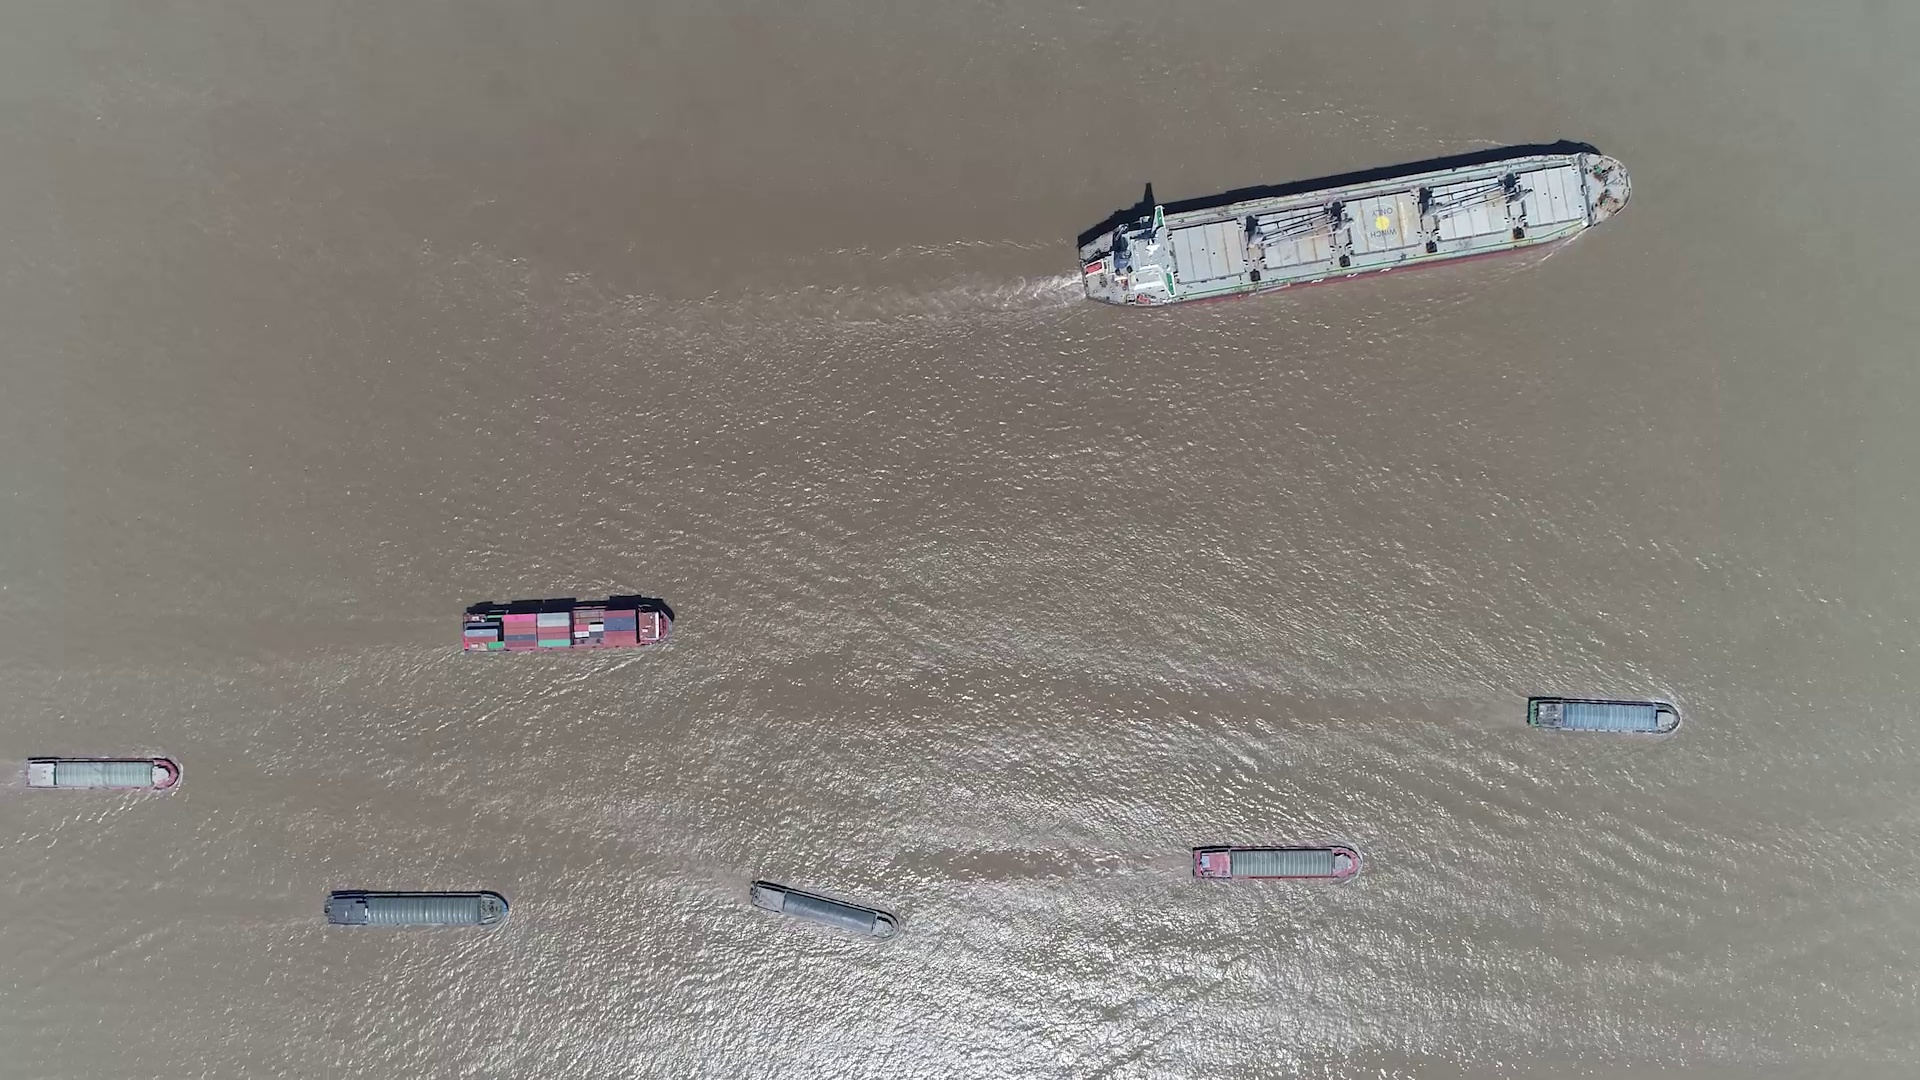ship: (1072, 153, 1633, 307), (460, 600, 674, 653), (748, 880, 898, 939), (324, 889, 506, 928), (1526, 694, 1683, 735), (1192, 844, 1360, 880), (22, 756, 181, 793)
